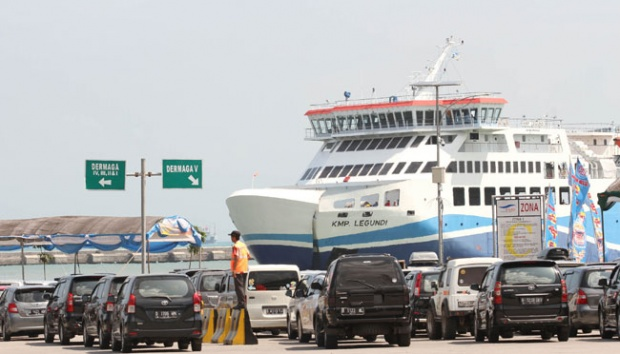plate: (520, 295, 544, 305), (154, 309, 175, 319), (343, 306, 364, 313)
